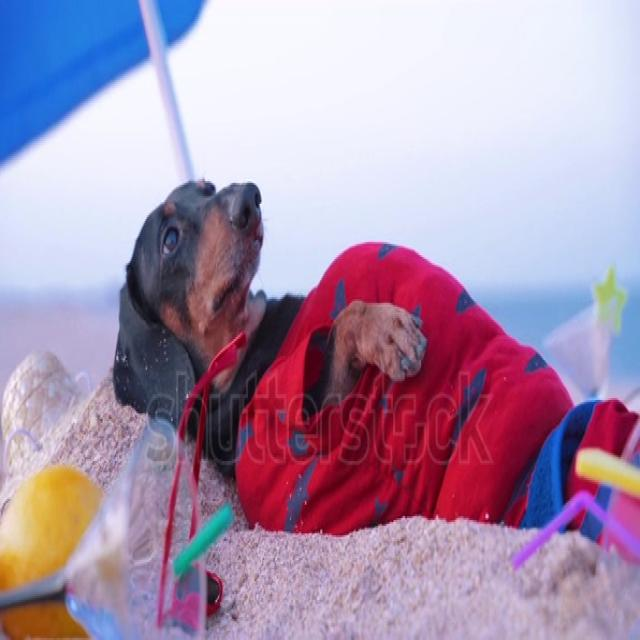injured-animals: (108, 170, 637, 568)
